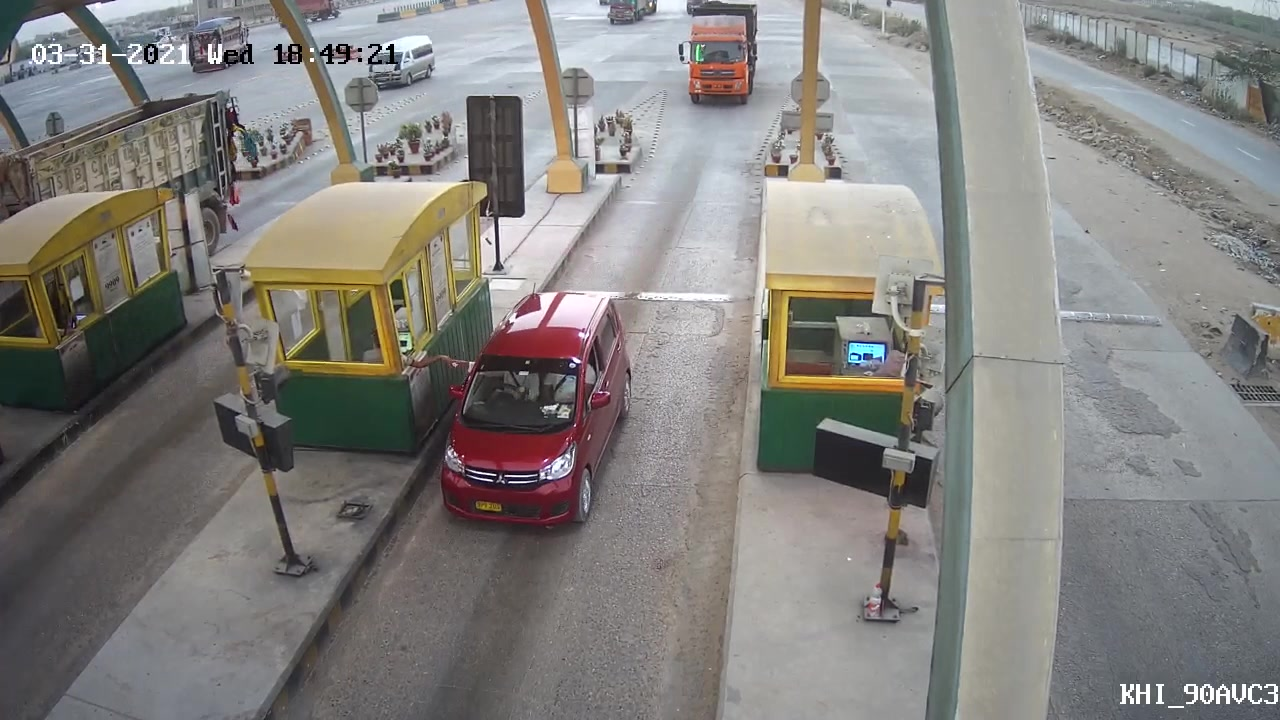F1: (438, 275, 645, 544)
